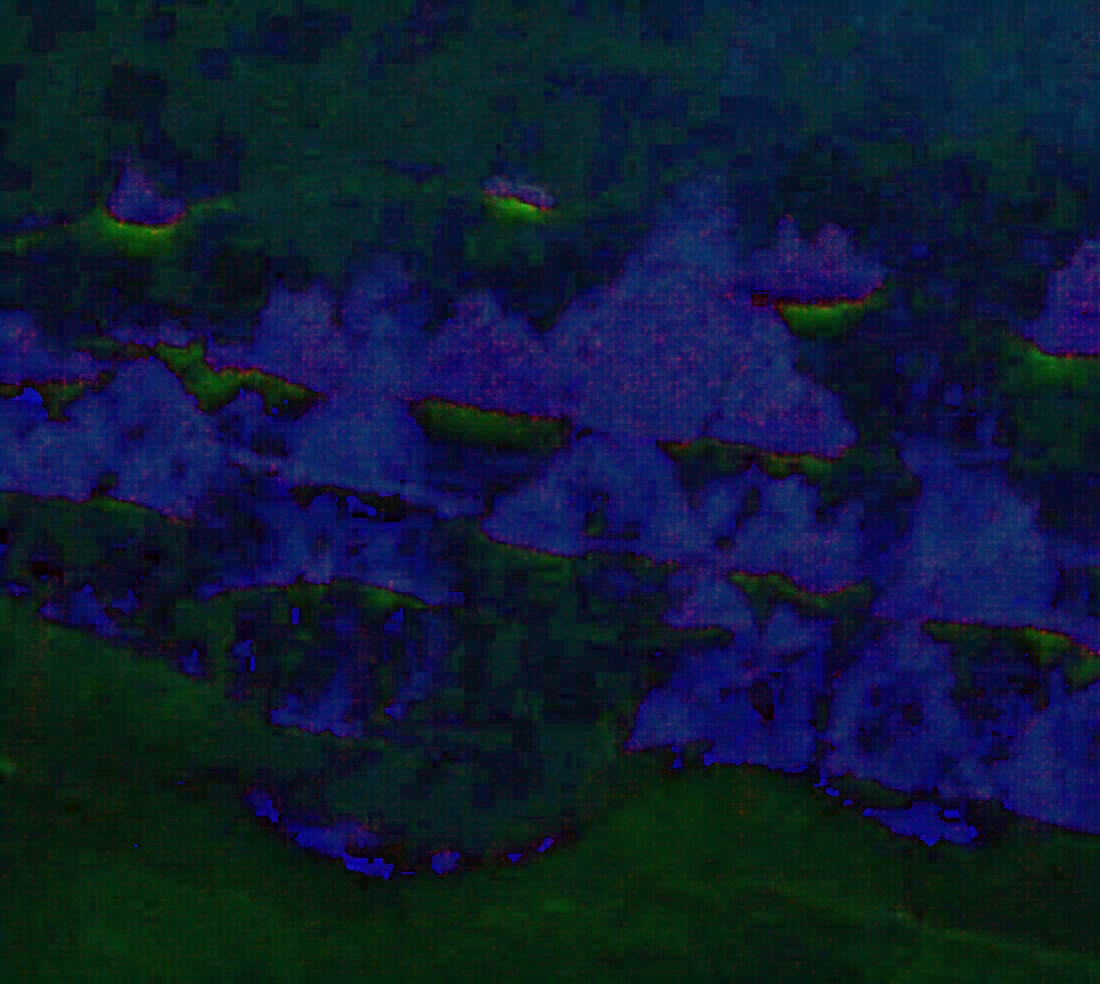rip_current: (223, 400, 692, 858)
